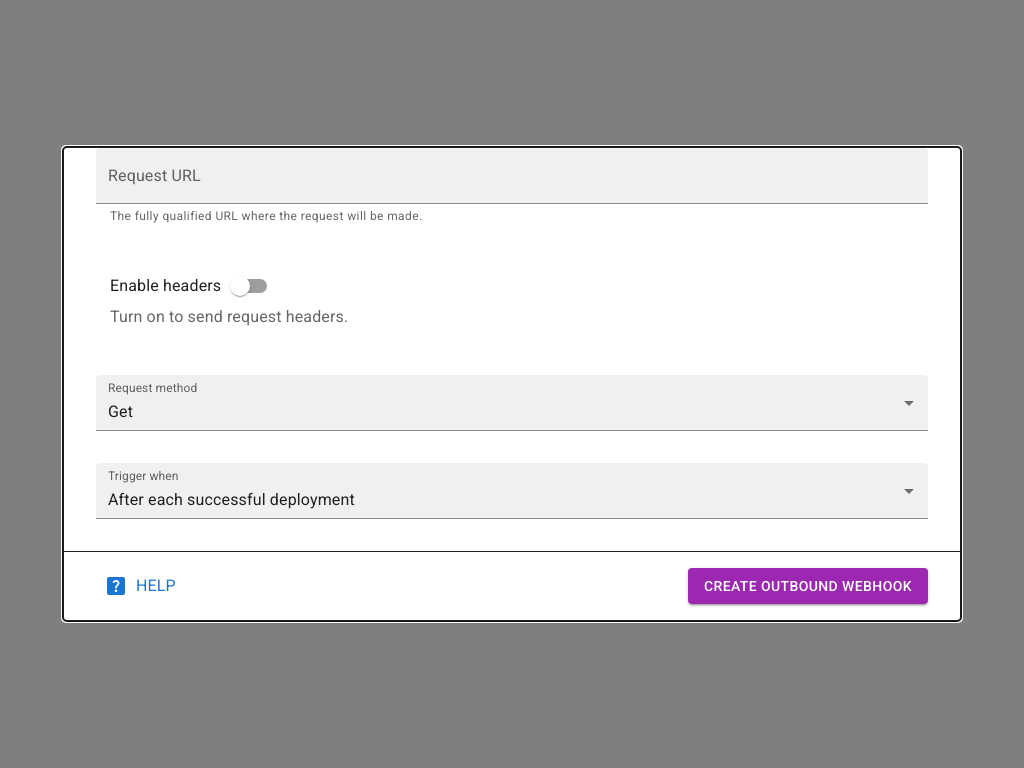
~/pages/apps/[id]/settings/_components/FormOutboundWebhookModal › create › displays request headers when enabled
This screenshot has width=1024, height=768.
Click the switch labelled "Enable headers": [189, 286] box [110,276,267,296]
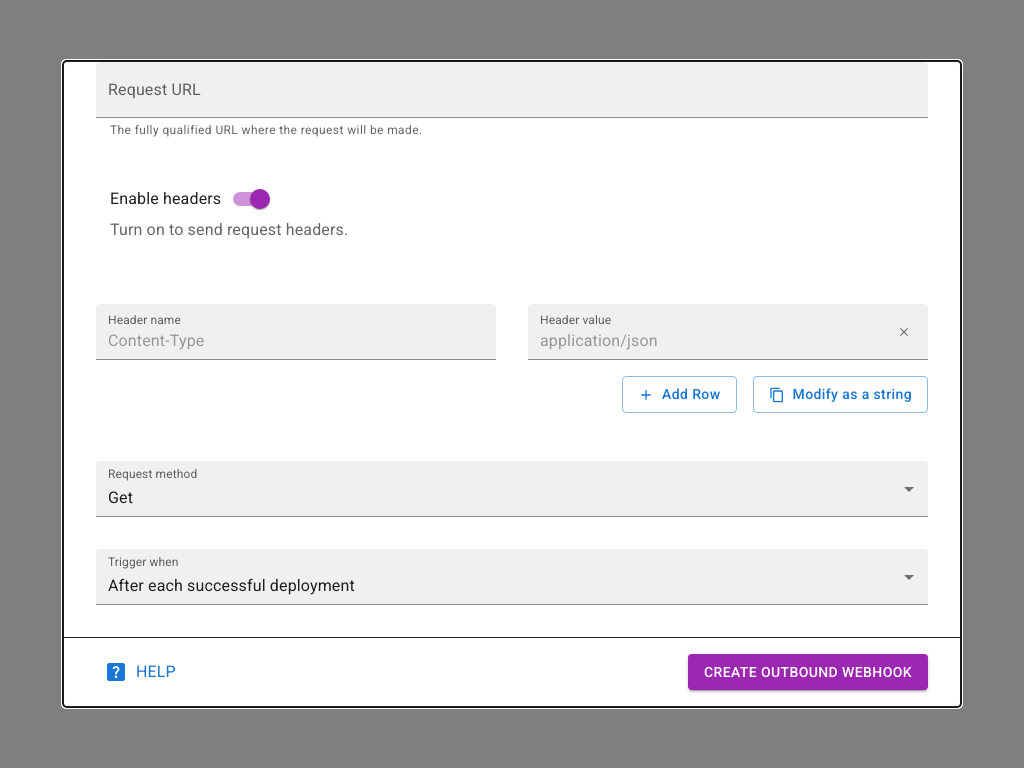
Now the text "Header name" is shown, box [108,312,181,329]
Now the text "Header value" is shown, box [540,312,611,329]
